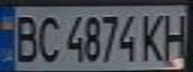4: (118, 11, 142, 63), (60, 11, 84, 62)
7: (100, 11, 121, 63)
8: (81, 11, 103, 63)
B: (9, 11, 42, 64)
C: (33, 12, 63, 64)
H: (157, 9, 193, 60)
K: (136, 10, 172, 63)
